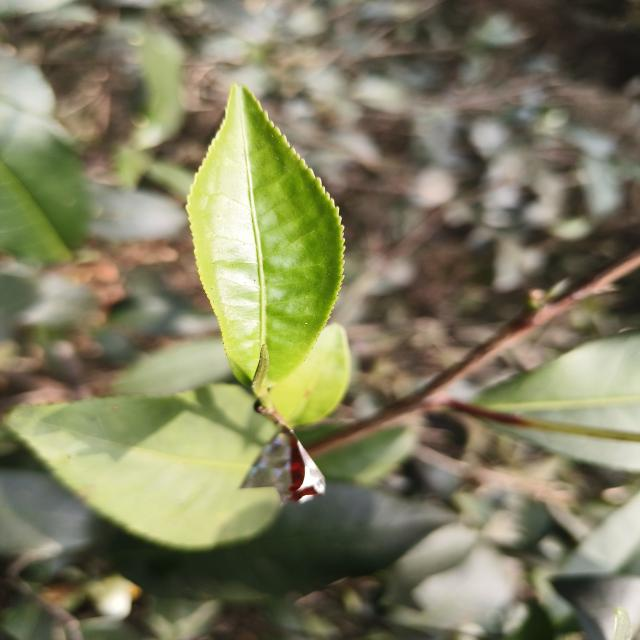Leaf: (187, 85, 344, 384), (6, 384, 280, 550), (112, 483, 454, 599), (474, 332, 640, 471), (0, 101, 91, 264), (270, 323, 351, 427), (0, 469, 95, 556)
